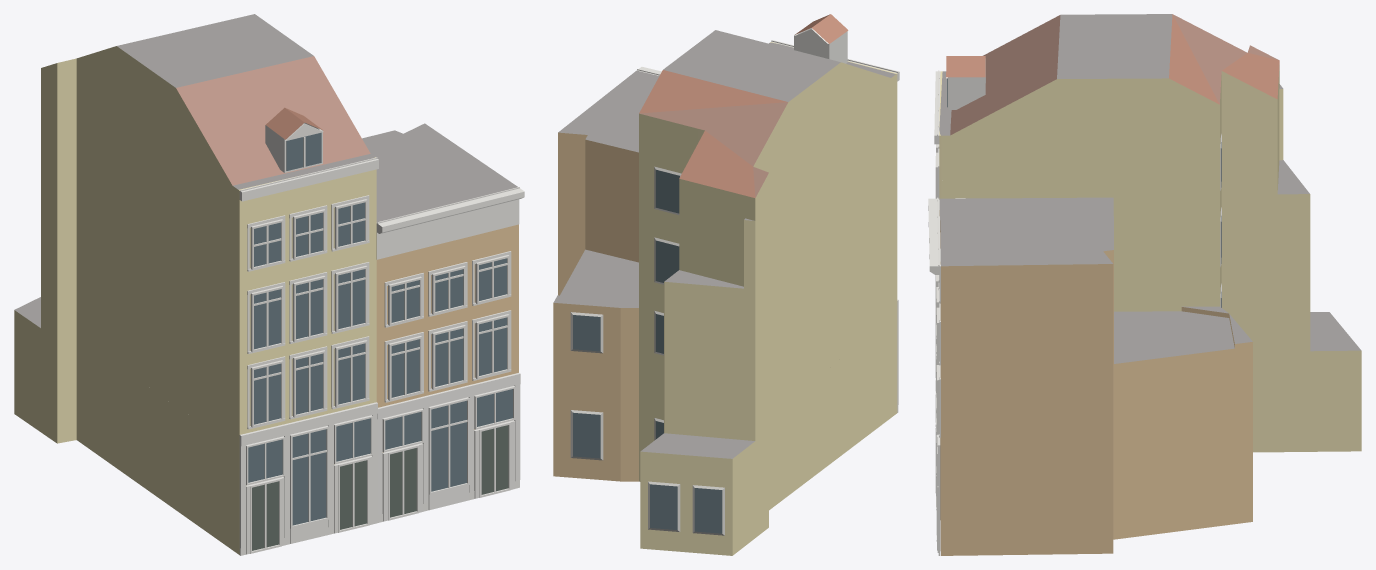
File: chunk-face-groenburgwal-46-56-h2.glb
3 renders of one model, left to right at view 1: azimuth 30°, elevation 25°; view 2: azimuth 150°, elevation 25°; view 3: azimuth 270°, elevation 25°, orthographic. The views are drawn at different scales.
Visible parts, largest first — view 1: face-groenburgwal-46-56-h2; view 2: face-groenburgwal-46-56-h2; view 3: face-groenburgwal-46-56-h2.
Part boxes in pixels (x1=…): face-groenburgwal-46-56-h2: x1=14, y1=14, x2=524, y2=555; face-groenburgwal-46-56-h2: x1=553, y1=14, x2=899, y2=555; face-groenburgwal-46-56-h2: x1=928, y1=14, x2=1361, y2=555.
Size of the model in its own units: 12.21 by 16.22 by 15.59.
